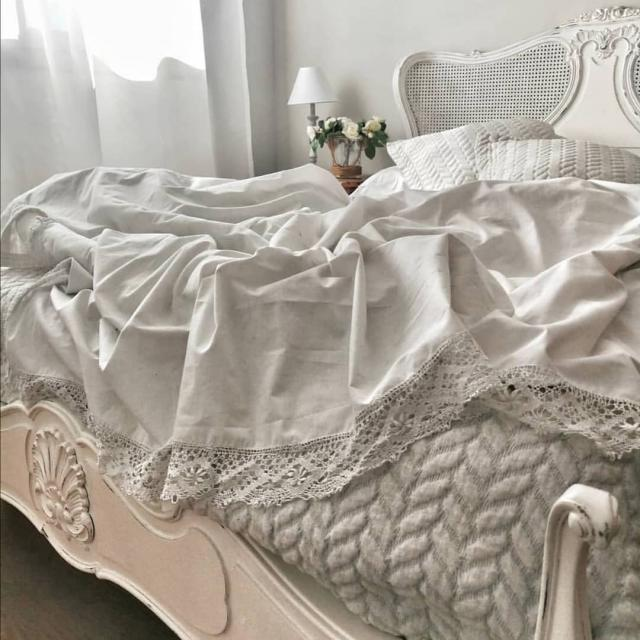bed: (9, 49, 637, 640)
